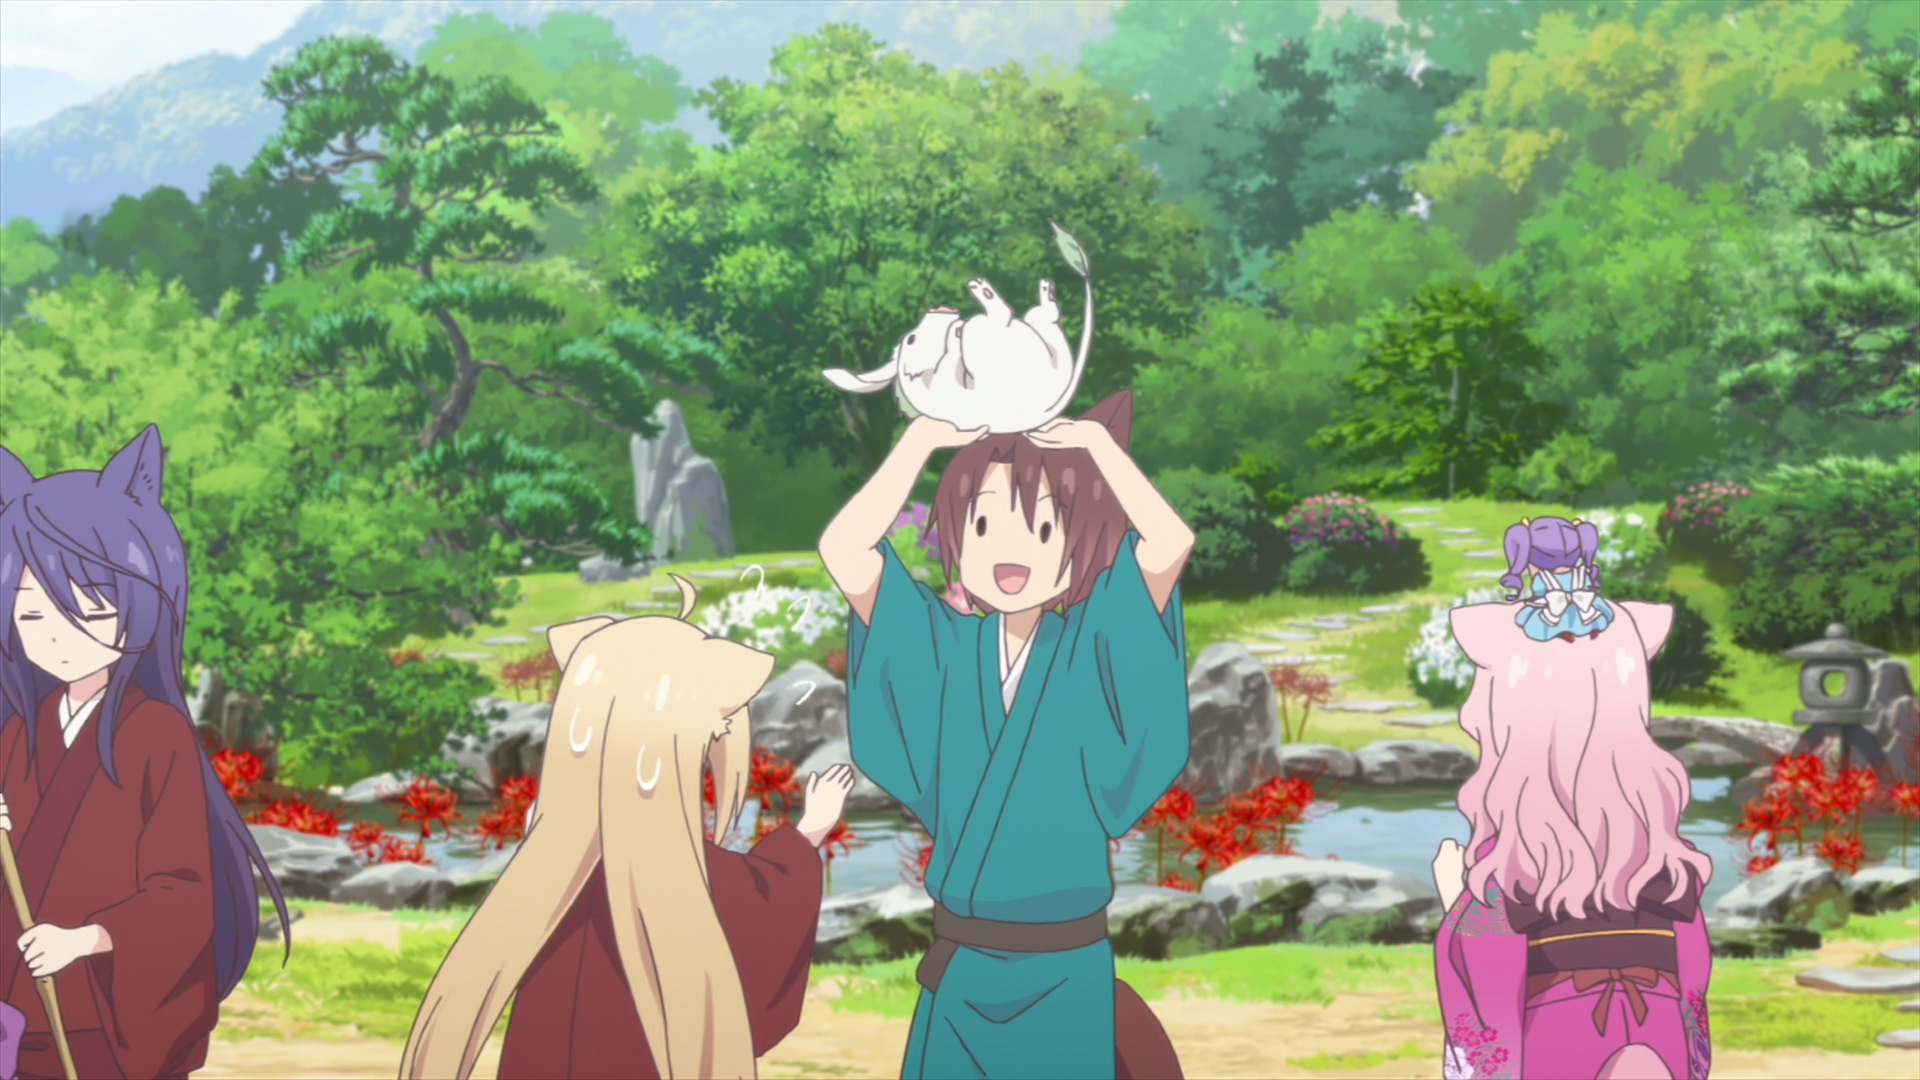枣: (818, 389, 1196, 1080)
柚: (398, 571, 857, 1080)
瓜之介: (822, 218, 1093, 434)
皋: (1, 422, 289, 1080)
莲: (1431, 601, 1714, 1080)
阿菊: (1501, 517, 1613, 642)
